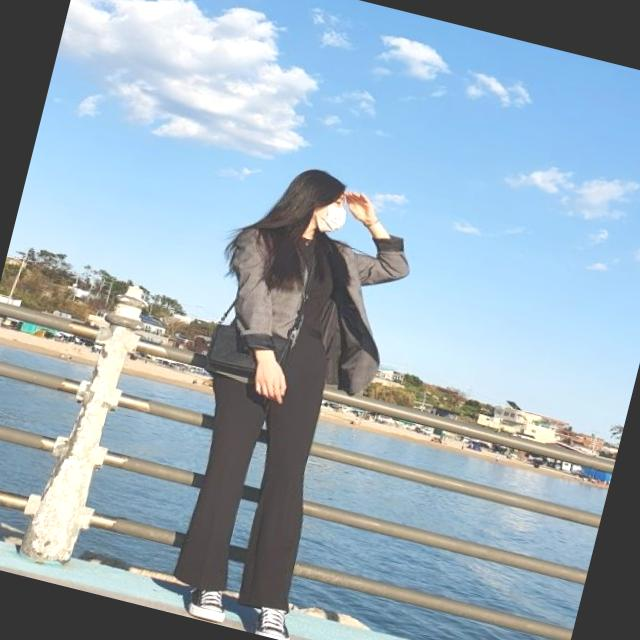blazer: (196, 198, 418, 416)
slacks: (162, 316, 359, 617)
